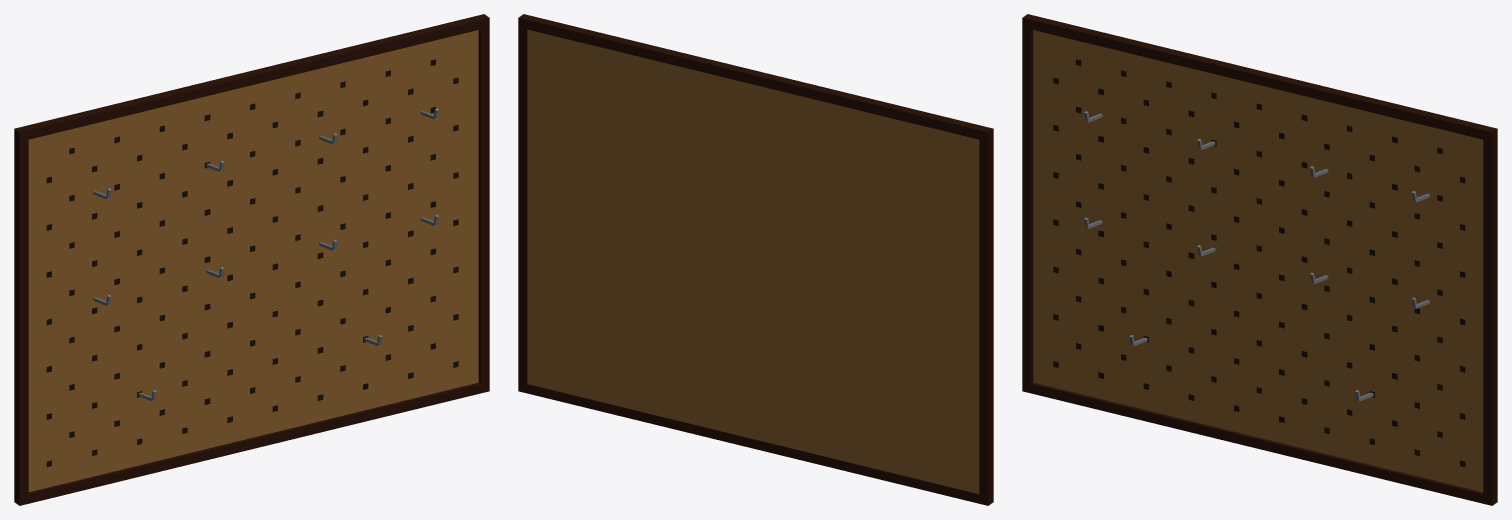
The model's file is SM_Shop_Pegboard.glb.
3 renders of one model, left to right at view 1: azimuth 30°, elevation 25°; view 2: azimuth 150°, elevation 25°; view 3: azimuth 330°, elevation 25°, orthographic.
Parts seen in each view (by area): view 1: SM_Shop_Pegboard; view 2: SM_Shop_Pegboard; view 3: SM_Shop_Pegboard.
Boxes of the visible parts, x1,y1,x2,y2 form: SM_Shop_Pegboard: (14, 14, 489, 505); SM_Shop_Pegboard: (518, 14, 993, 505); SM_Shop_Pegboard: (1022, 14, 1497, 505).
Bounding box in the file's own units: 2.08 × 1.58 × 0.1458.
1 material, 1 textured.
